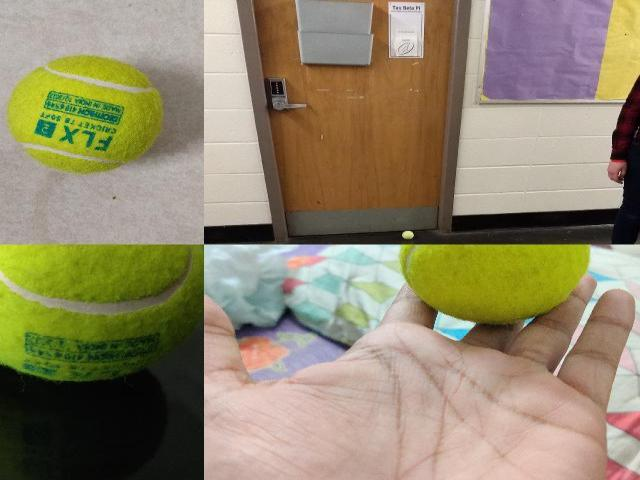tennis-ball: (0, 244, 203, 384), (7, 56, 164, 174), (397, 244, 591, 326), (401, 230, 413, 240)
